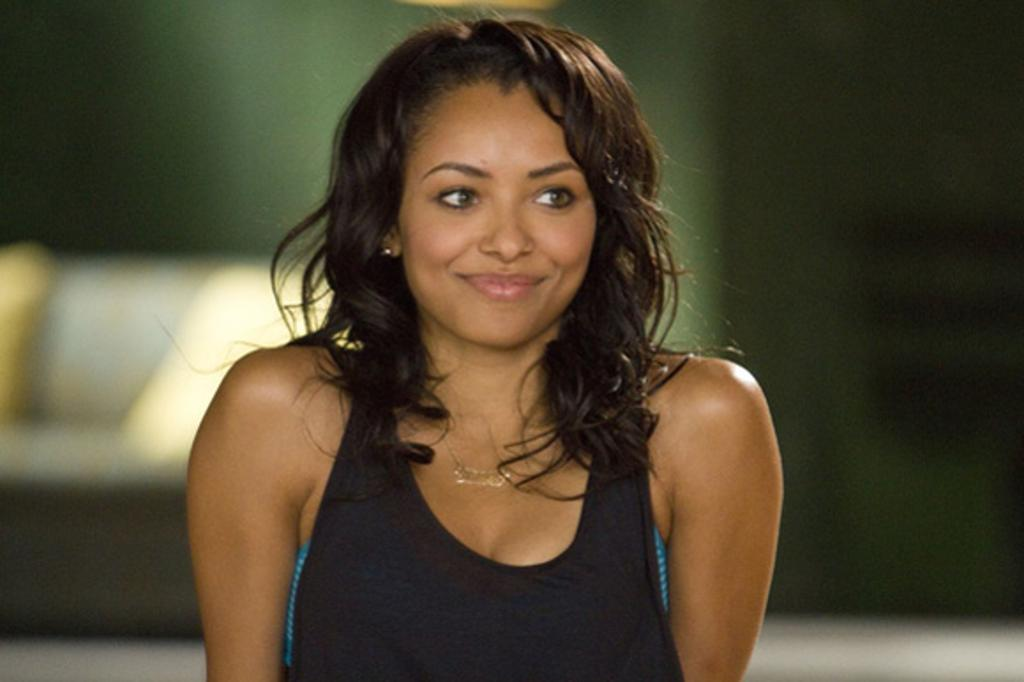face: (406, 82, 604, 350)
